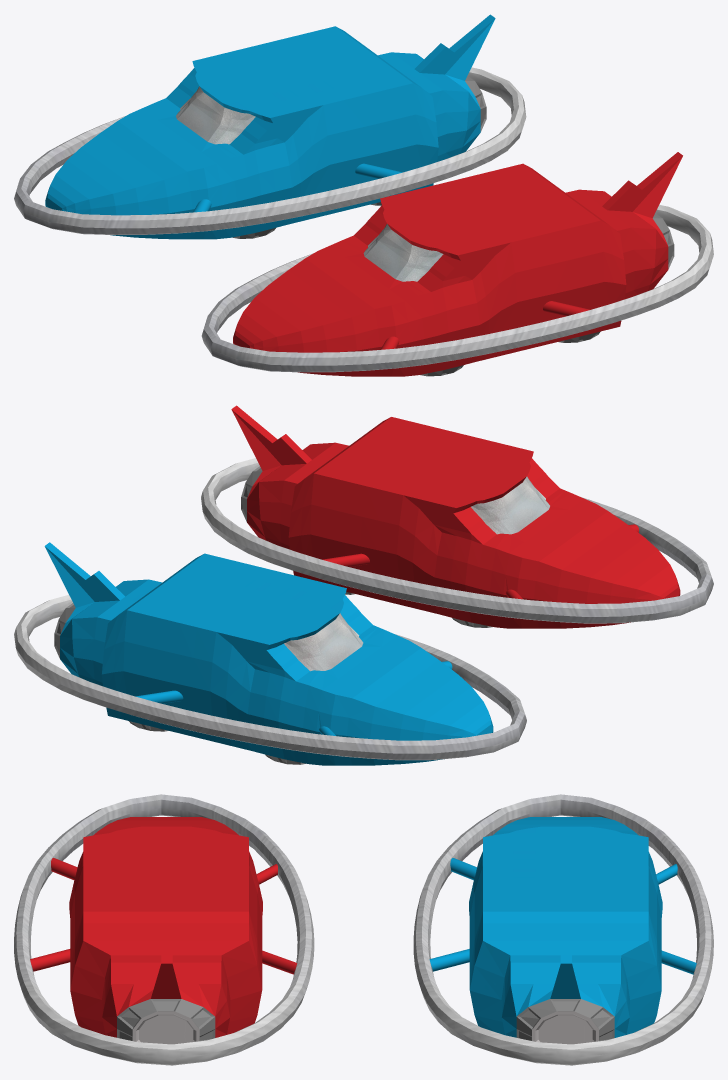
File: navicella completa.fbx
The picture shows the model from 3 angles, top to bottom: view 1: azimuth 30°, elevation 25°; view 2: azimuth 150°, elevation 25°; view 3: azimuth 270°, elevation 25°; orthographic projection. The views are drawn at different scales.
Parts seen in each view (by area): view 1: polySurface8, polySurface9, tubi_navicella_rossa, tubi_navicella_rossa3; view 2: polySurface9, polySurface8, tubi_navicella_rossa3, tubi_navicella_rossa; view 3: polySurface9, polySurface8, tubi_navicella_rossa3, tubi_navicella_rossa.
Boxes of the visible parts, bbox=[...] form: polySurface8: bbox=[233, 152, 682, 376]; polySurface9: bbox=[45, 14, 495, 239]; tubi_navicella_rossa: bbox=[201, 205, 713, 372]; tubi_navicella_rossa3: bbox=[14, 67, 526, 234]; polySurface9: bbox=[44, 542, 493, 765]; polySurface8: bbox=[231, 405, 680, 628]; tubi_navicella_rossa3: bbox=[14, 586, 526, 760]; tubi_navicella_rossa: bbox=[201, 449, 713, 623]; polySurface9: bbox=[469, 817, 662, 1044]; polySurface8: bbox=[69, 817, 262, 1044]; tubi_navicella_rossa3: bbox=[413, 794, 713, 1065]; tubi_navicella_rossa: bbox=[14, 794, 314, 1065].
Size of the model in its own units: 5.89 by 1.52 by 6.79.
